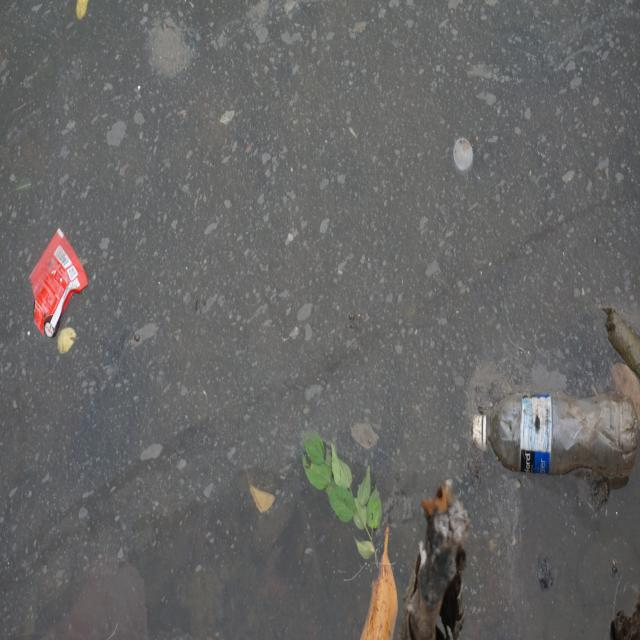Botol Plastik: (468, 380, 640, 494), (453, 132, 477, 177)
Bungkus Minuman: (27, 224, 93, 344)
